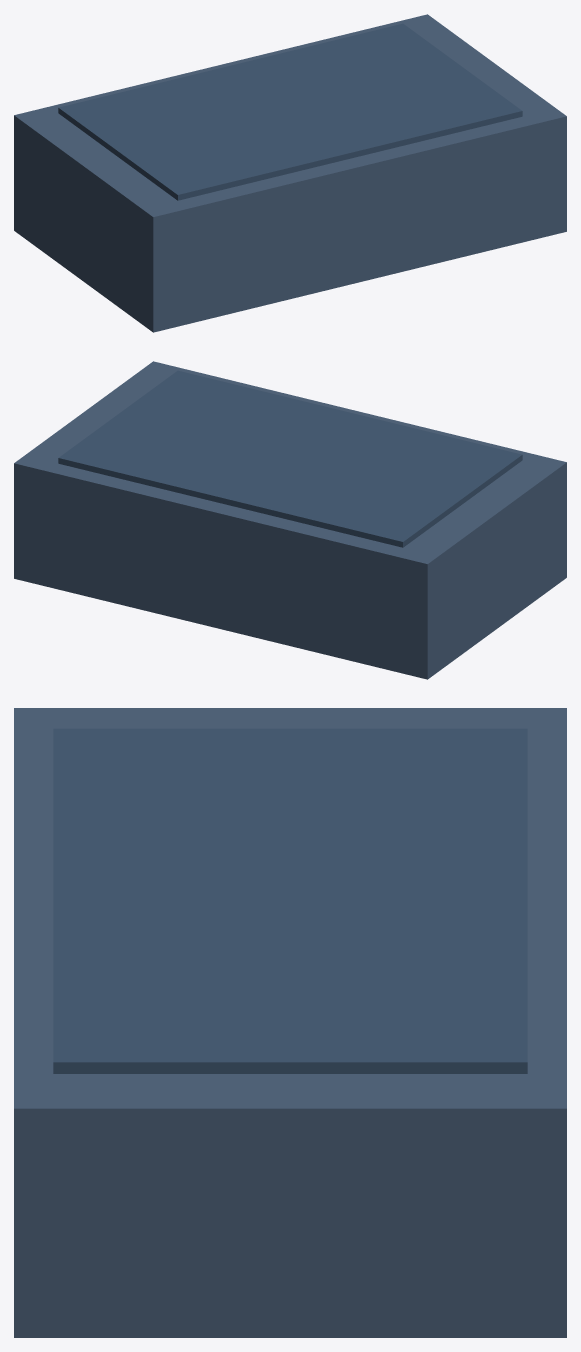
3 renders of one model, top to bottom at view 1: azimuth 30°, elevation 25°; view 2: azimuth 150°, elevation 25°; view 3: azimuth 270°, elevation 25°, orthographic. The views are drawn at different scales.
Parts seen in each view (by area): view 1: 088_L103_Y1; view 2: 088_L103_Y1; view 3: 088_L103_Y1.
Part boxes in pixels (box(x1,y1,x2,y2)): 088_L103_Y1: box(14, 14, 566, 332); 088_L103_Y1: box(14, 361, 566, 679); 088_L103_Y1: box(14, 708, 566, 1337).
Bounding box in the file's own units: 0.6 × 0.169 × 0.35.
